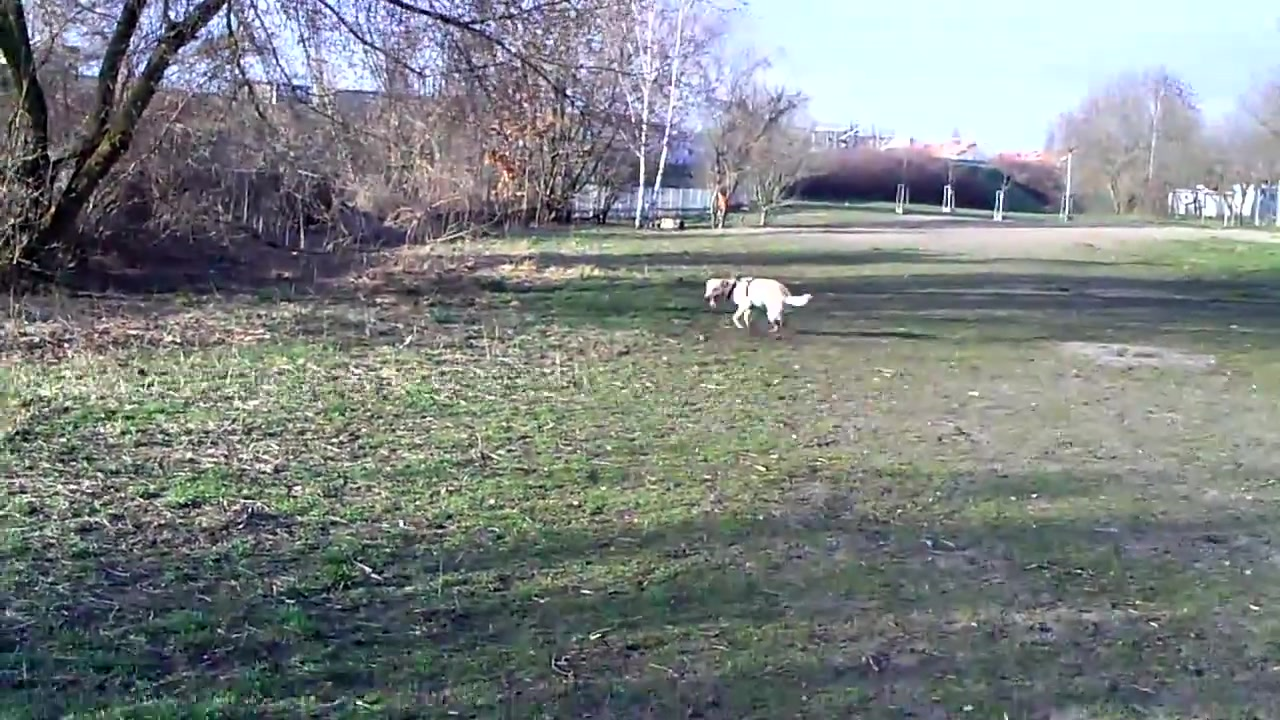dog: (700, 274, 817, 338)
